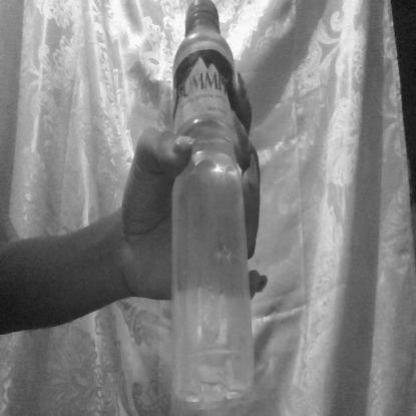Plastic Bottle: (165, 0, 260, 414)
